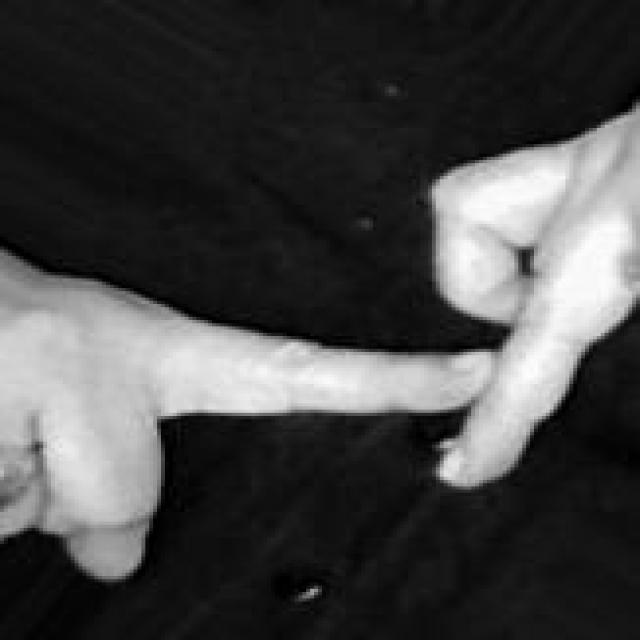R: (0, 107, 640, 582)
